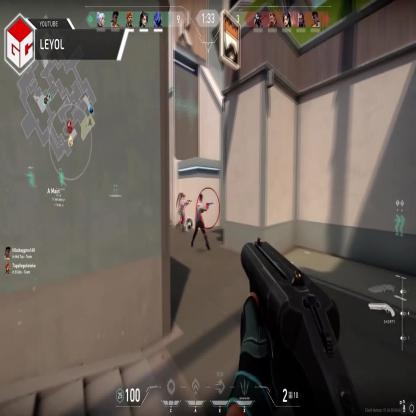enemy: (191, 191, 210, 249), (177, 192, 185, 234)
enemy_head: (198, 193, 202, 202), (182, 194, 186, 199)
